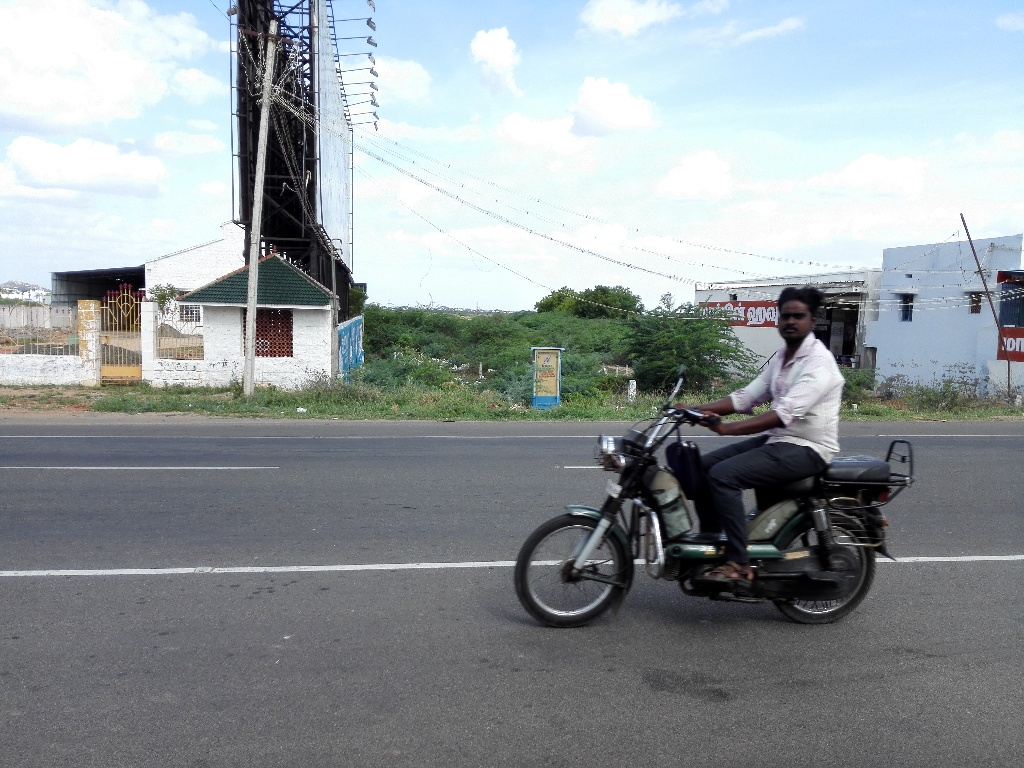biker: (496, 252, 935, 641)
nohelmet: (770, 267, 835, 363)
